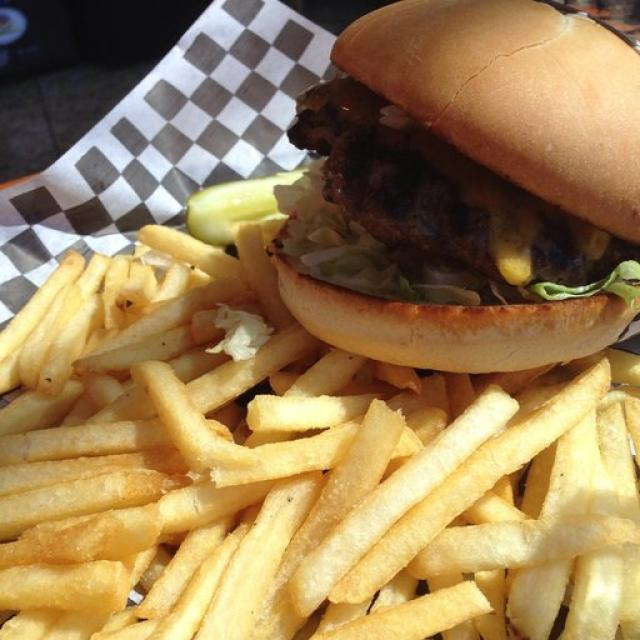burger: (259, 6, 640, 371)
